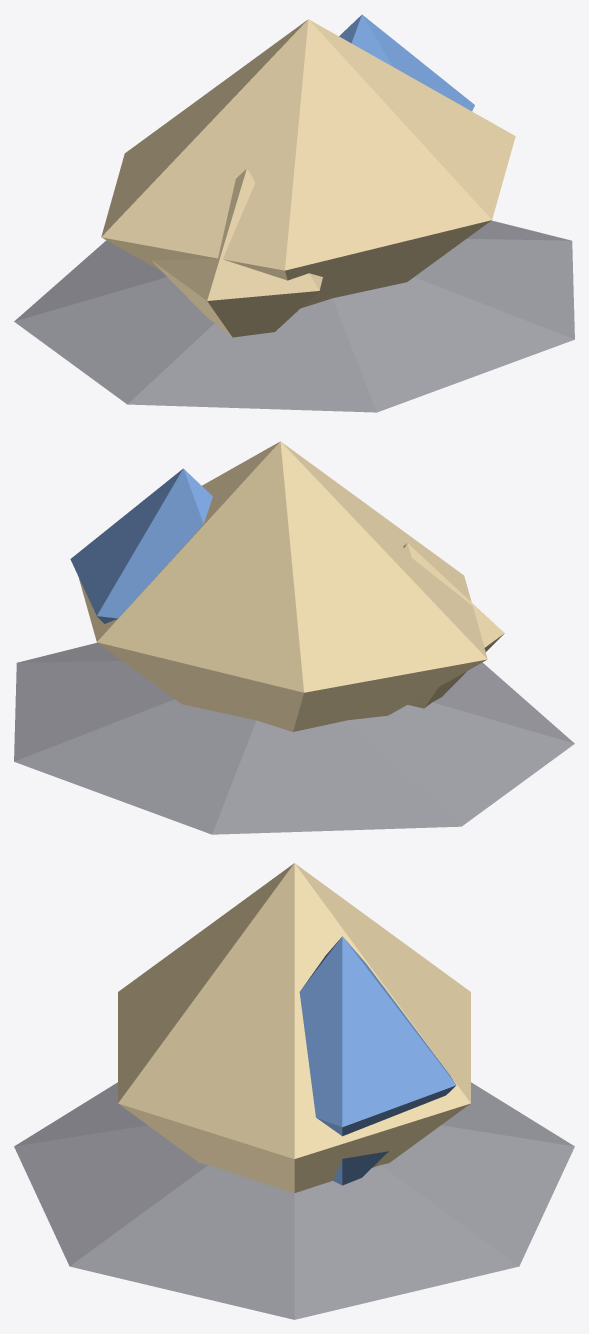
Rendered from deco_turquoise.obj.
3 renders of one model, top to bottom at view 1: azimuth 30°, elevation 25°; view 2: azimuth 150°, elevation 25°; view 3: azimuth 270°, elevation 25°, orthographic. The views are drawn at different scales.
Parts seen in each view (by area): view 1: deco_turquoise; view 2: deco_turquoise; view 3: deco_turquoise.
Boxes of the visible parts, bbox=[...] form: deco_turquoise: bbox=[14, 14, 574, 412]; deco_turquoise: bbox=[14, 441, 574, 834]; deco_turquoise: bbox=[14, 863, 574, 1319].
Bounding box in the file's own units: 0.0266 × 0.018 × 0.0234.
1 material, 1 textured.
